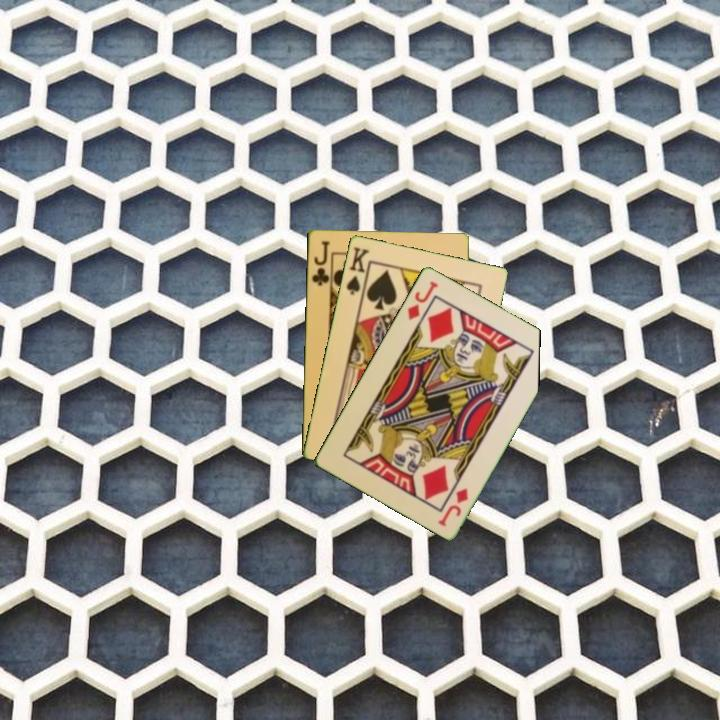Jc: (308, 237, 332, 288)
Jd: (404, 277, 441, 323), (434, 484, 471, 529)
Ks: (343, 243, 372, 300)
